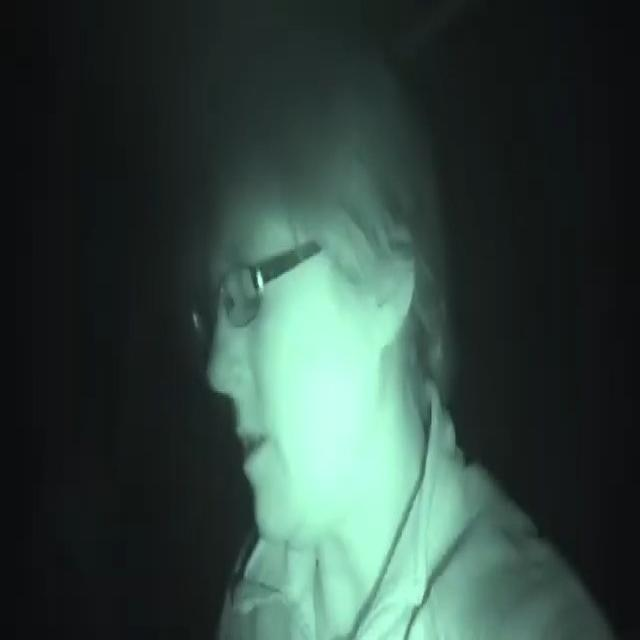human: (117, 0, 619, 640)
